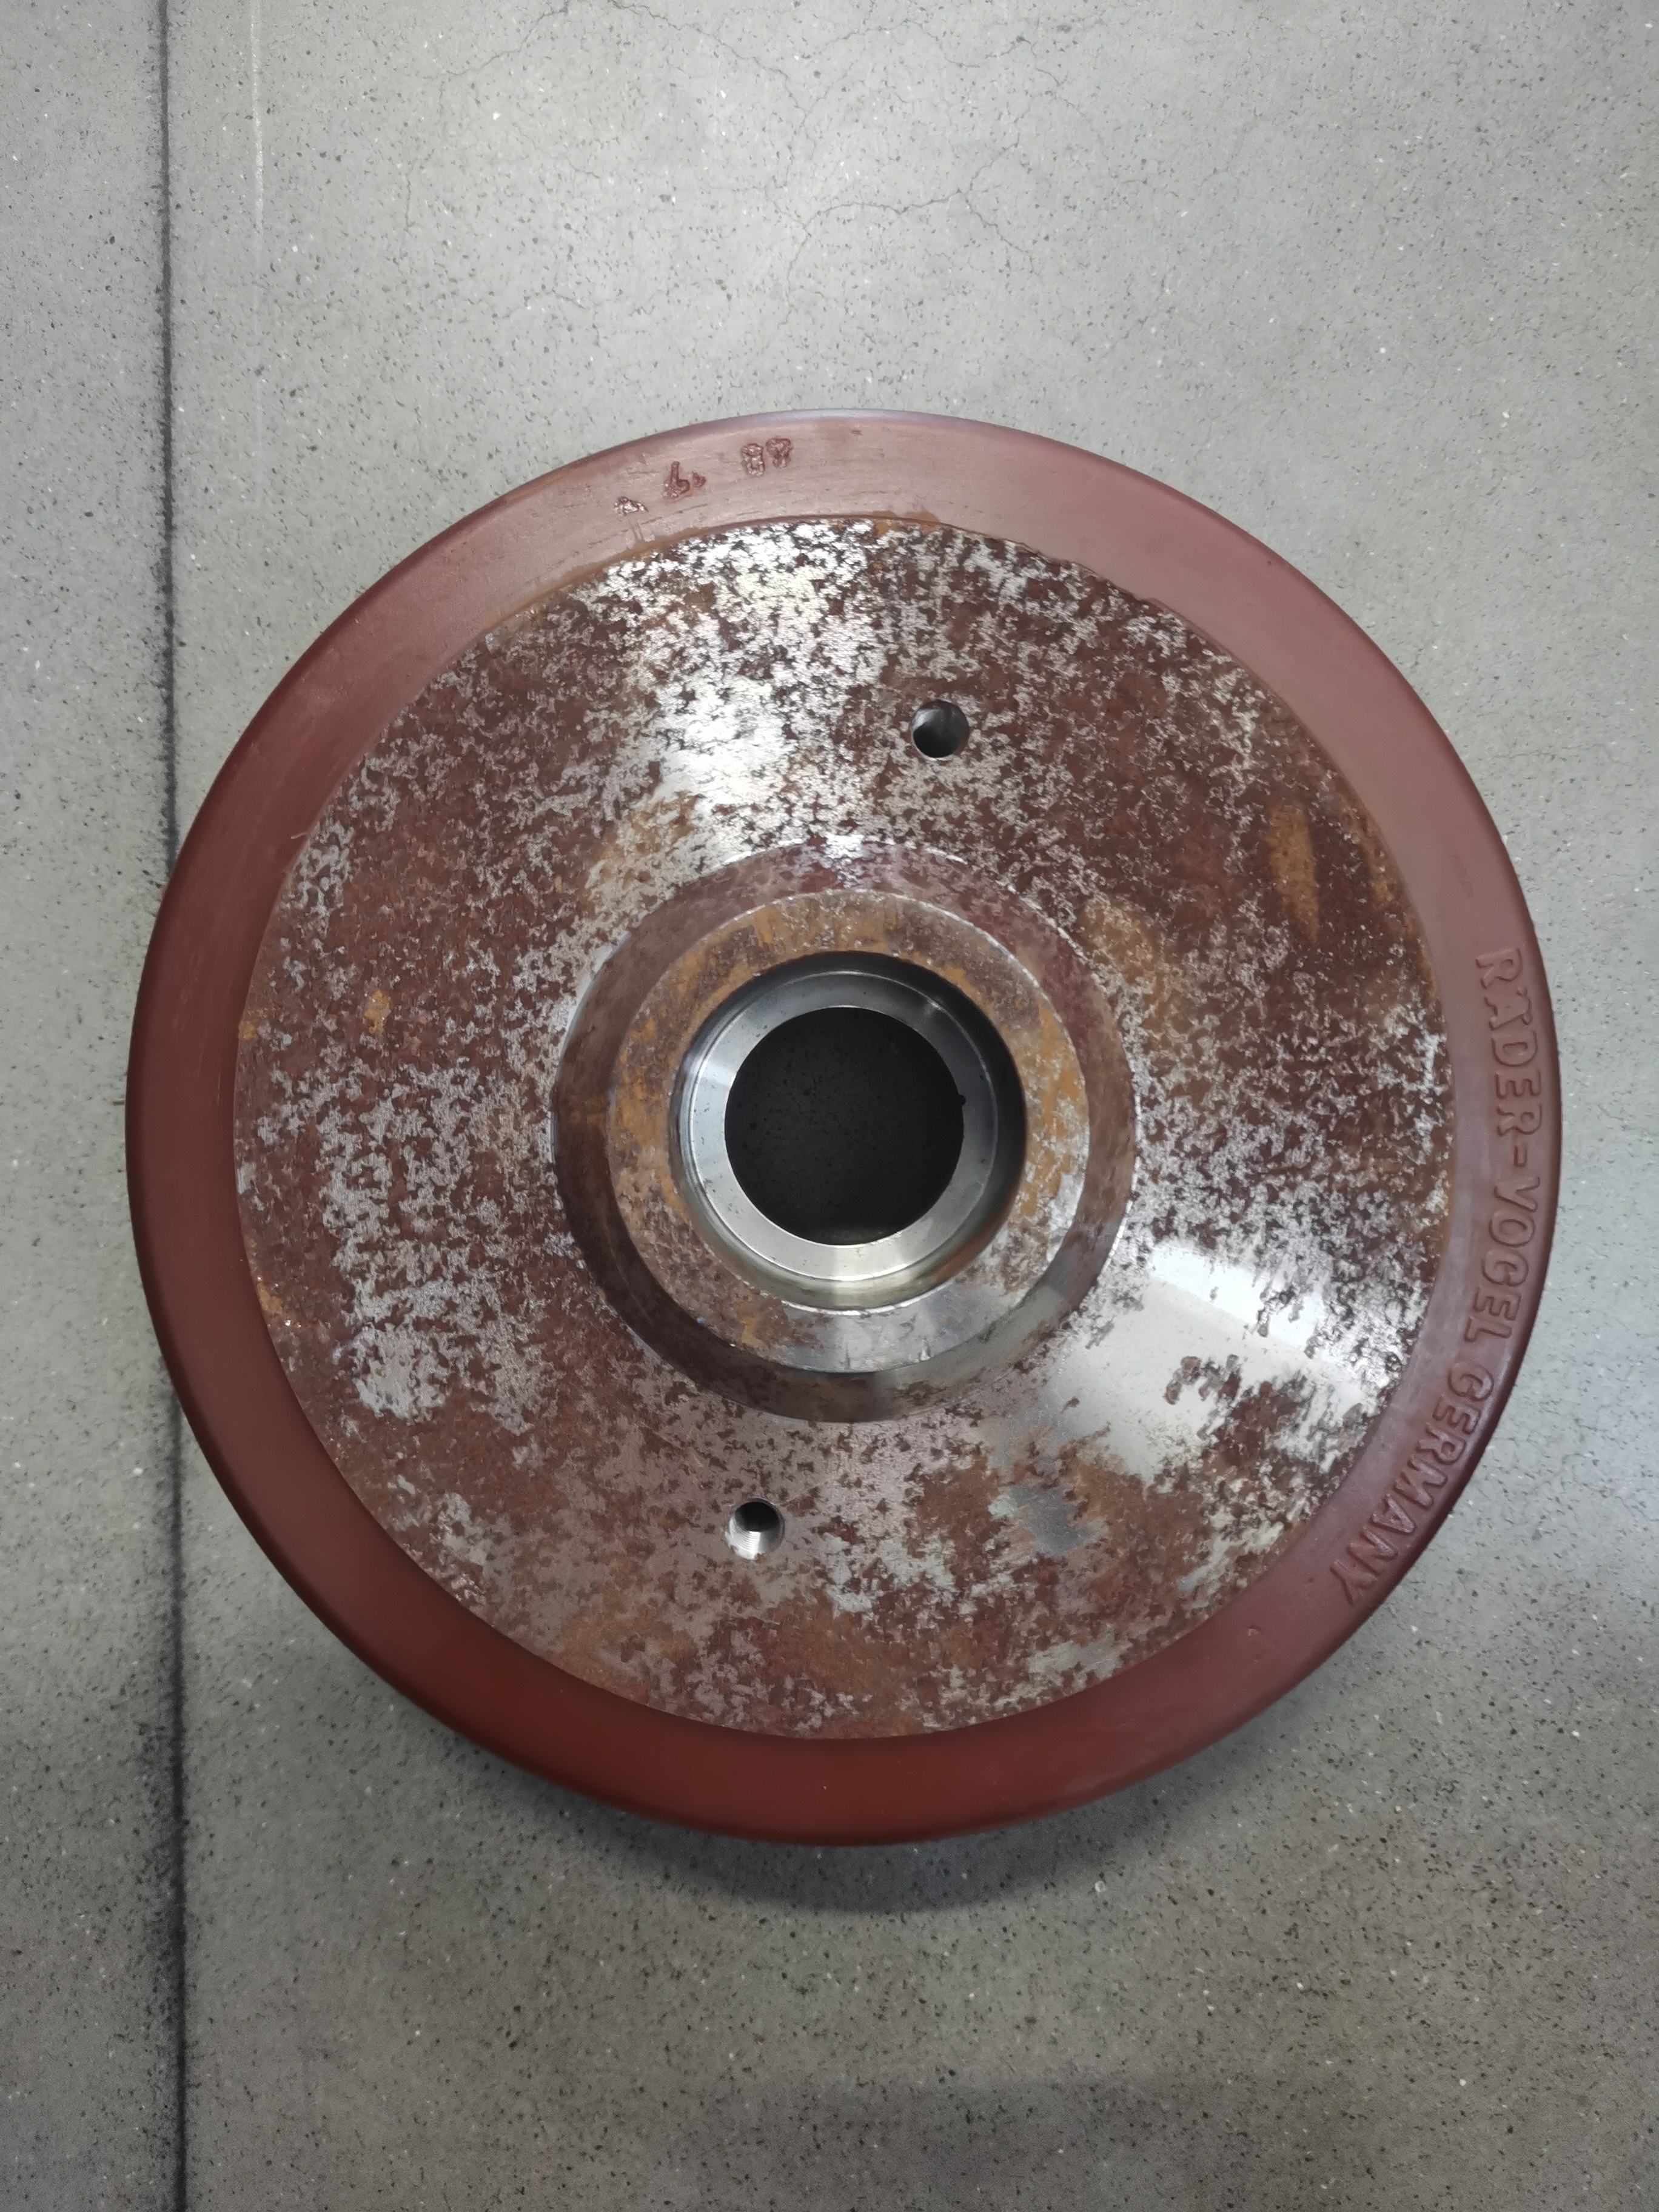good_wheel: (145, 371, 1574, 1862)
